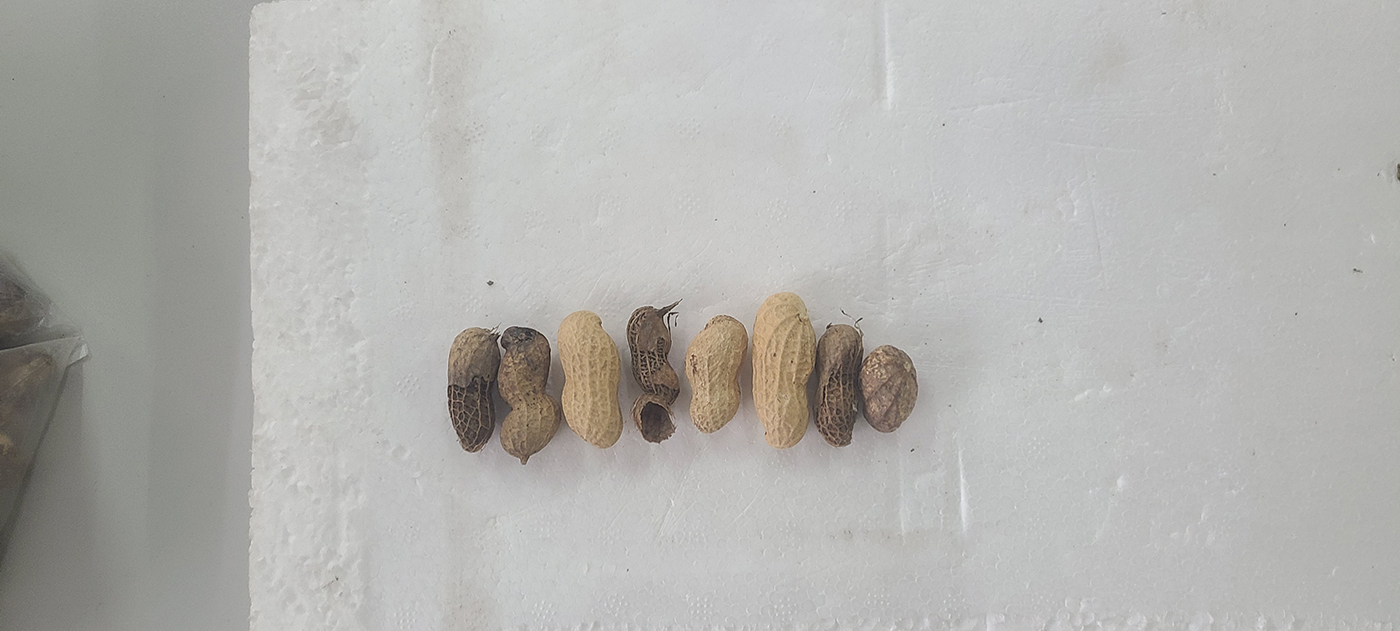h: (752, 292, 817, 449), (558, 311, 624, 448), (684, 314, 747, 434)
l: (496, 325, 560, 459), (627, 306, 680, 444), (447, 328, 500, 452), (815, 322, 863, 446), (860, 344, 917, 432)
